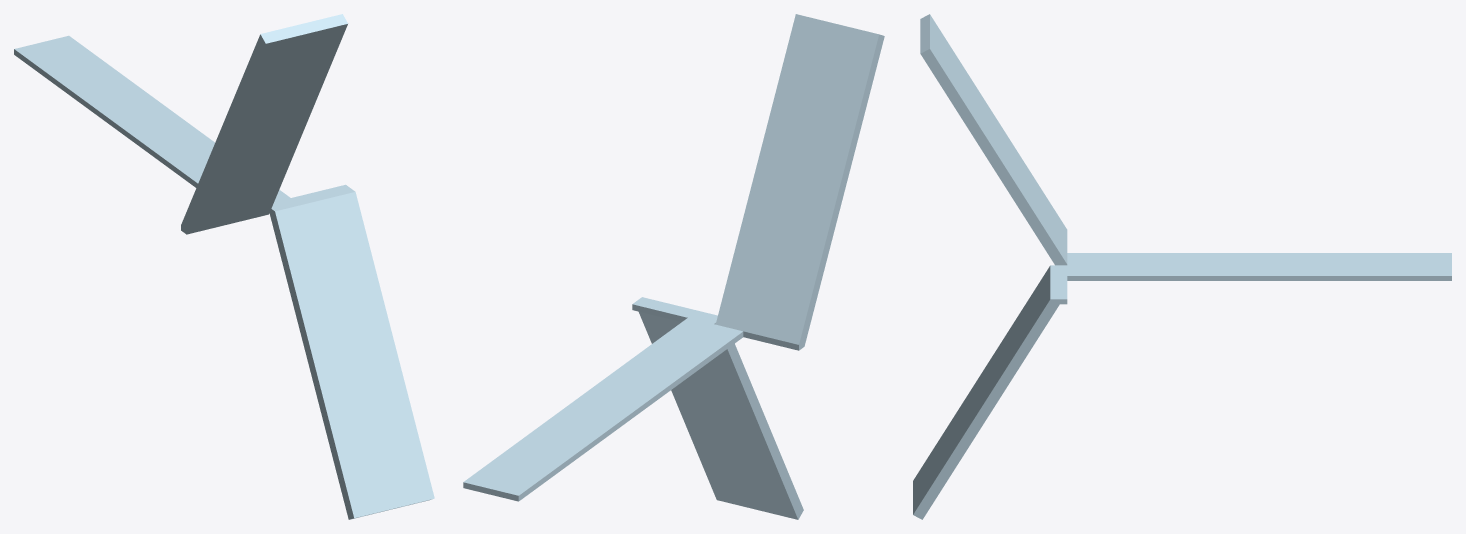
Rendered from paper.gltf.
The picture shows the model from 3 angles, left to right: view 1: azimuth 30°, elevation 25°; view 2: azimuth 150°, elevation 25°; view 3: azimuth 270°, elevation 25°; orthographic projection. The views are drawn at different scales.
Visible parts, largest first — view 1: Part 1; view 2: Part 1; view 3: Part 1.
Boxes of the visible parts, left/top/right/bottom form: Part 1: left=14, top=14, right=434, bottom=519; Part 1: left=463, top=14, right=884, bottom=519; Part 1: left=913, top=14, right=1451, bottom=519.
Bounding box in the file's own units: 0.03 × 0.0876 × 0.0981.
